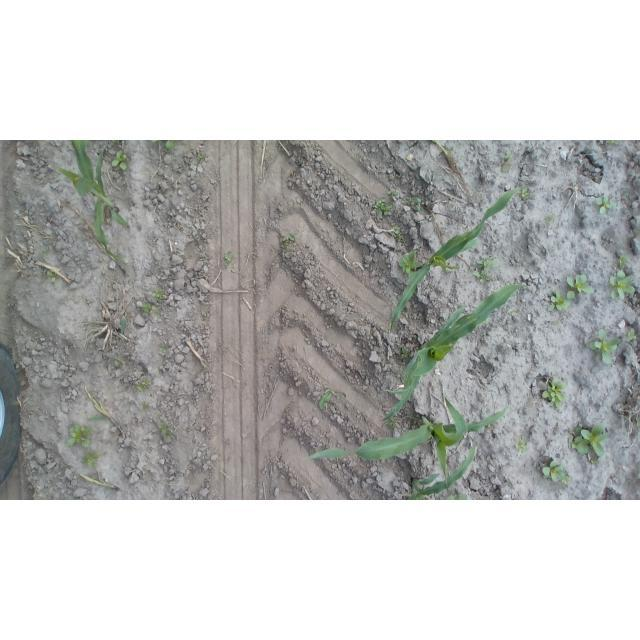Maize: (381, 284, 529, 424), (390, 186, 519, 330), (306, 394, 510, 479), (53, 141, 127, 264), (408, 443, 476, 498)
Weeds: (570, 420, 609, 464), (591, 325, 620, 366), (608, 269, 640, 303), (565, 272, 598, 303), (541, 459, 576, 486), (66, 423, 94, 450), (541, 376, 565, 406), (474, 256, 498, 282), (400, 248, 421, 277), (593, 193, 619, 216), (545, 291, 571, 313), (155, 418, 177, 443), (513, 434, 534, 455), (373, 197, 393, 218), (84, 449, 104, 468), (110, 152, 130, 170), (408, 194, 425, 214), (498, 150, 512, 174), (390, 224, 405, 244), (618, 250, 631, 273), (150, 289, 170, 303), (159, 342, 175, 359), (626, 326, 639, 346), (222, 250, 234, 270), (135, 378, 154, 390), (281, 232, 299, 244), (138, 303, 156, 315), (161, 143, 177, 154), (387, 191, 401, 202), (520, 187, 531, 201), (400, 346, 408, 359)
